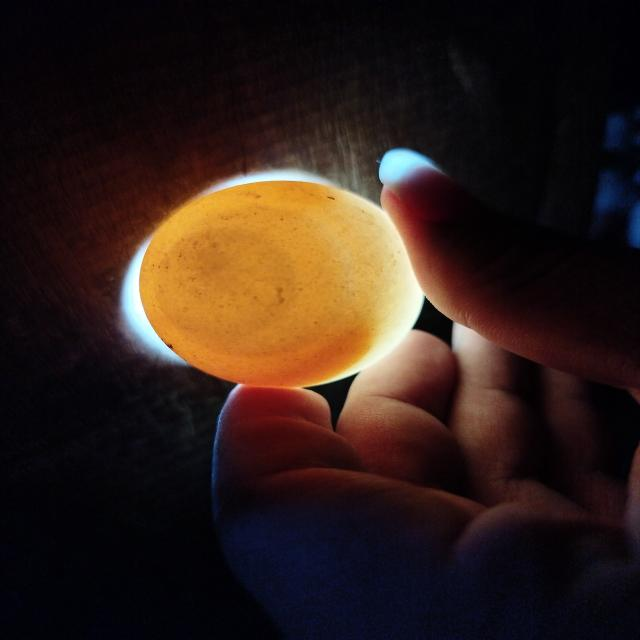Camara de Ar: (155, 229, 300, 335)
Gema Quebrada: (212, 326, 380, 387)
